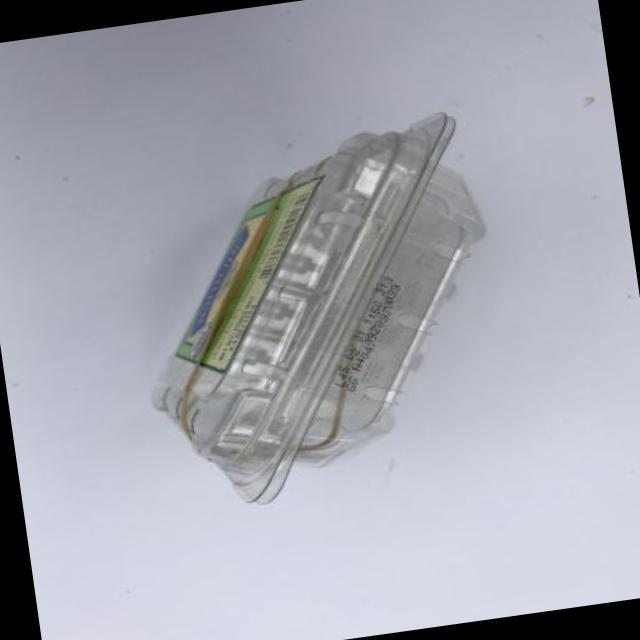Clamshell: (93, 93, 535, 530)
Label: (132, 170, 356, 386)
